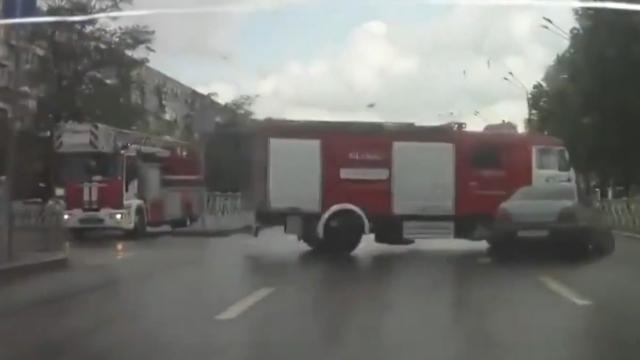fire fighting vehicle: (253, 117, 584, 256), (51, 121, 207, 244)
non emergency car: (492, 182, 617, 262)
